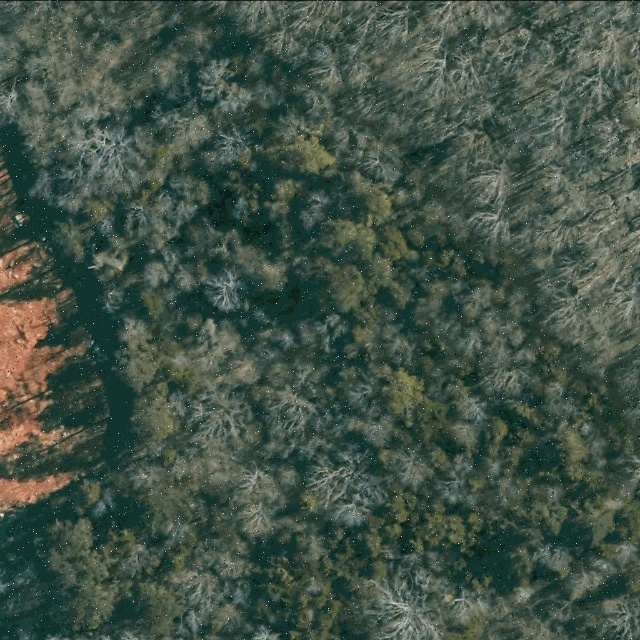vegetation: (1, 2, 640, 638)
